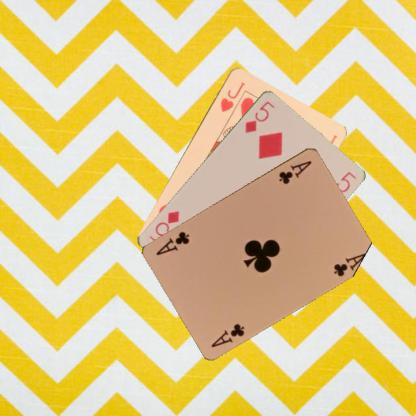5d: (242, 98, 276, 134)
Ac: (276, 158, 313, 185), (209, 321, 246, 348)
Jh: (217, 79, 246, 113)
